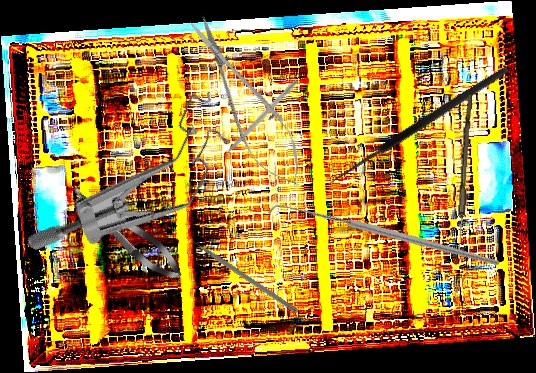Chopper: (183, 228, 303, 314), (209, 74, 299, 167)
Hook Surgical: (267, 121, 501, 354), (325, 63, 516, 198)
Micro Scissor: (174, 5, 318, 199), (64, 177, 190, 288)
Speculum: (24, 49, 246, 307)
Surgical Spoon: (455, 94, 473, 258)
